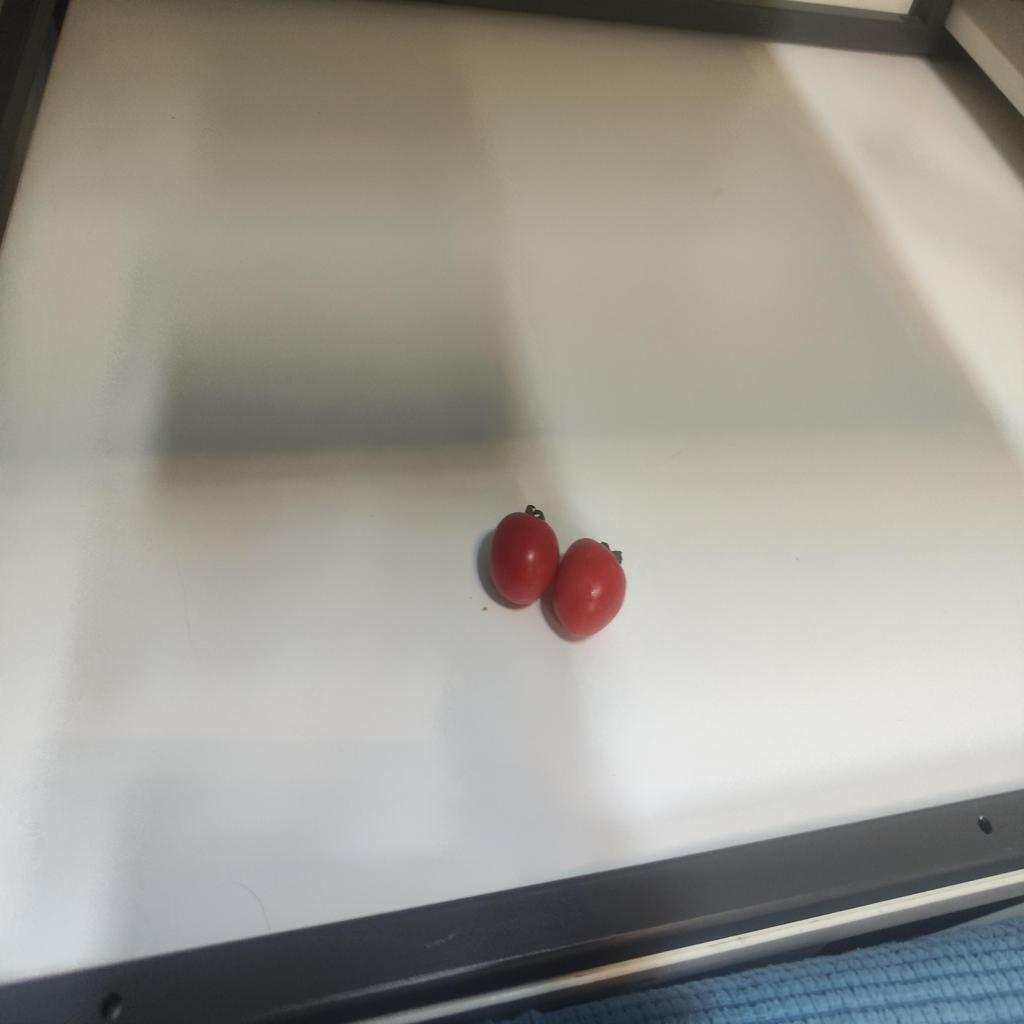tomato: (559, 531, 628, 640), (487, 504, 557, 611)
